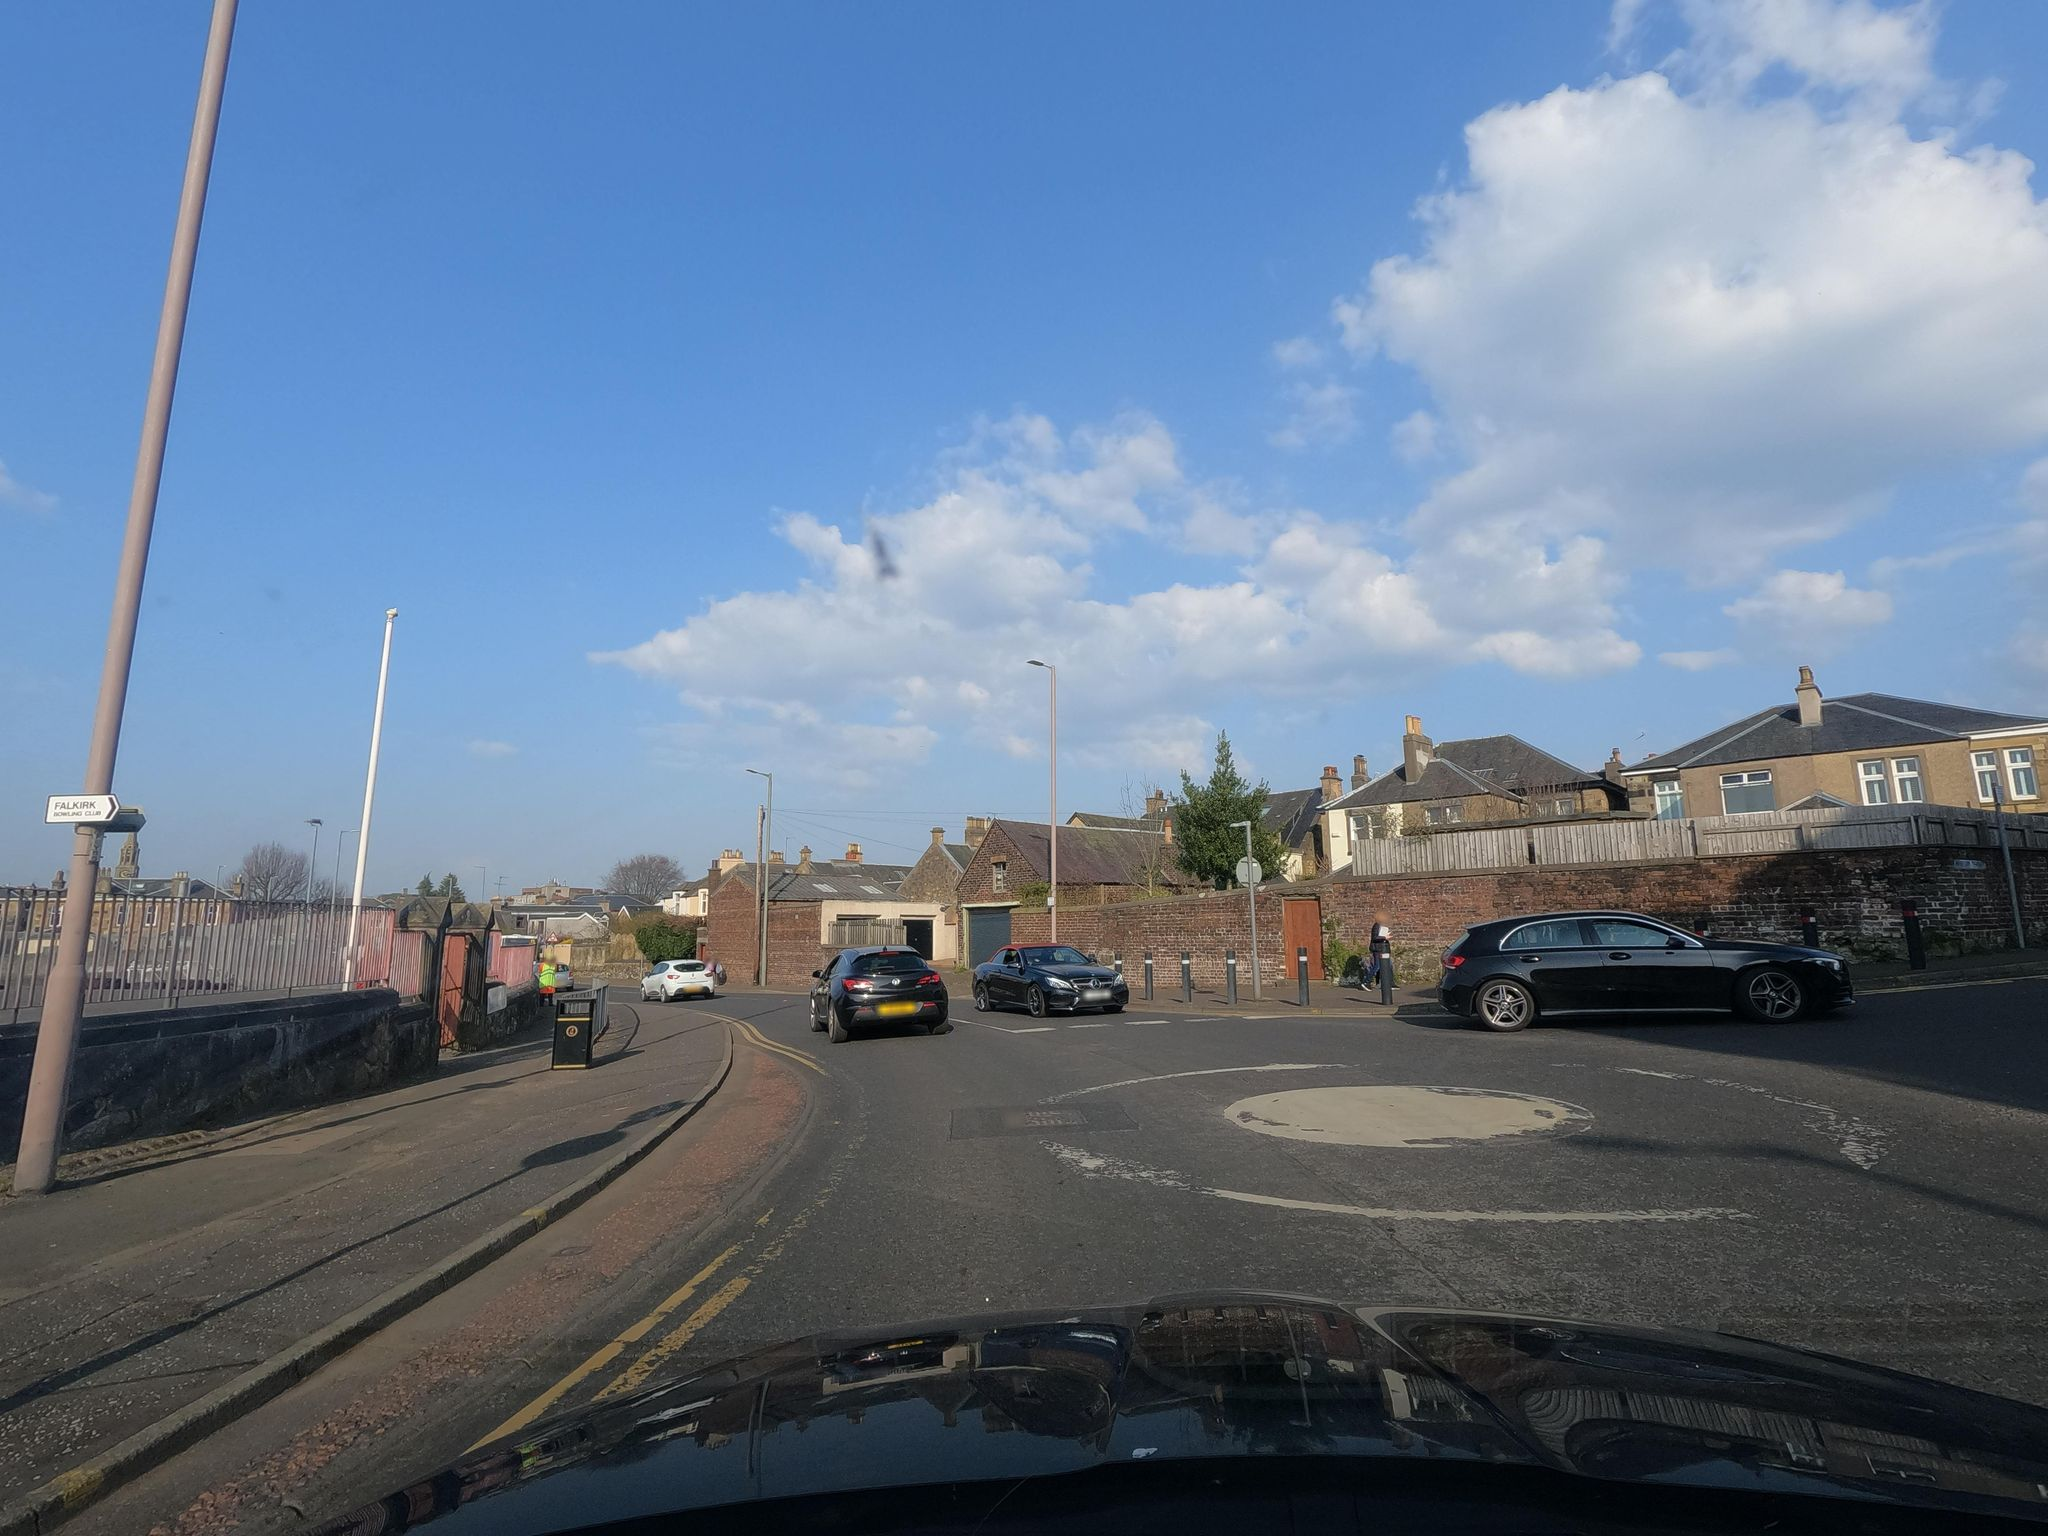car: (1437, 908, 1858, 1031), (808, 944, 950, 1042), (971, 942, 1129, 1018), (639, 958, 714, 1002), (552, 962, 574, 991)
